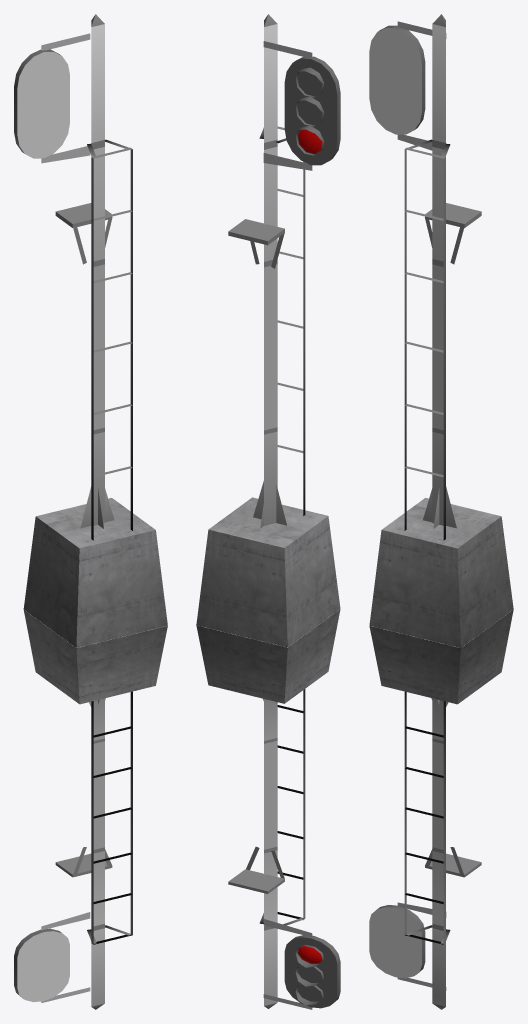
Rendered from MENU_SIGNAL.glb.
The picture shows the model from 3 angles, left to right: view 1: azimuth 30°, elevation 25°; view 2: azimuth 150°, elevation 25°; view 3: azimuth 330°, elevation 25°; orthographic projection.
Parts seen in each view (by area): view 1: obj25; view 2: obj25; view 3: obj25.
Part boxes in pixels (left/top/right/bottom): obj25: left=14, top=14, right=167, bottom=1009; obj25: left=196, top=14, right=340, bottom=1009; obj25: left=369, top=14, right=513, bottom=1009.
Bounding box in the file's own units: 1.52 × 11.99 × 1.15.
Materials: 3 (3 with a texture image).
